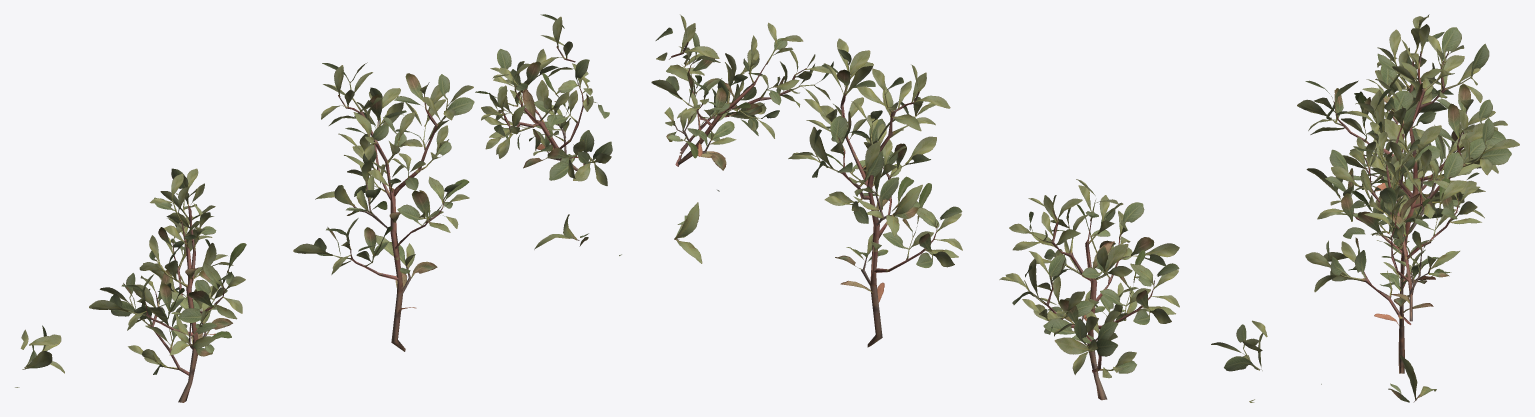
File: shrub_04.glb
3 renders of one model, left to right at view 1: azimuth 30°, elevation 25°; view 2: azimuth 150°, elevation 25°; view 3: azimuth 270°, elevation 25°, orthographic. The views are drawn at different scales.
Parts seen in each view (by area): view 1: shrub_04; view 2: shrub_04; view 3: shrub_04.
Boxes of the visible parts, x1,y1,x2,y2 form: shrub_04: (15,14,621,402); shrub_04: (651,14,1267,402); shrub_04: (1297,14,1519,402).
Size of what is drawn, in the model's own units: 1.52 by 0.75 by 0.4725.
1 material, 1 textured.
